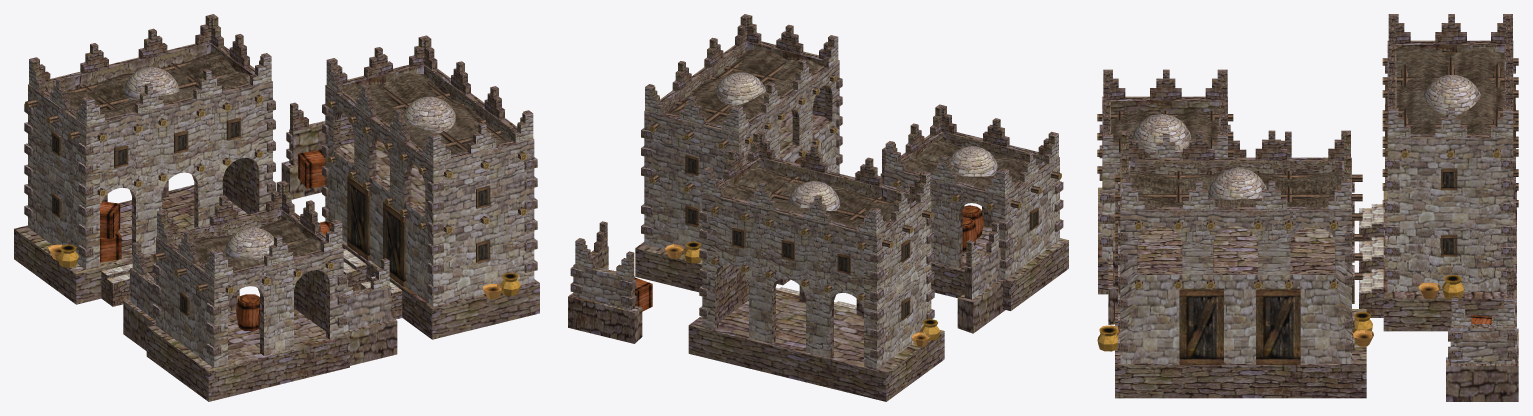
File: palace.dae
The picture shows the model from 3 angles, left to right: view 1: azimuth 30°, elevation 25°; view 2: azimuth 150°, elevation 25°; view 3: azimuth 270°, elevation 25°; orthographic projection. The views are drawn at different scales.
Visible parts, largest first — view 1: palace; view 2: palace; view 3: palace.
Boxes of the visible parts, bbox=[...] form: palace: bbox=[14, 14, 539, 401]; palace: bbox=[568, 14, 1068, 401]; palace: bbox=[1097, 14, 1518, 401].
Bounding box in the file's own units: 24.88 × 24.47 × 13.87.
